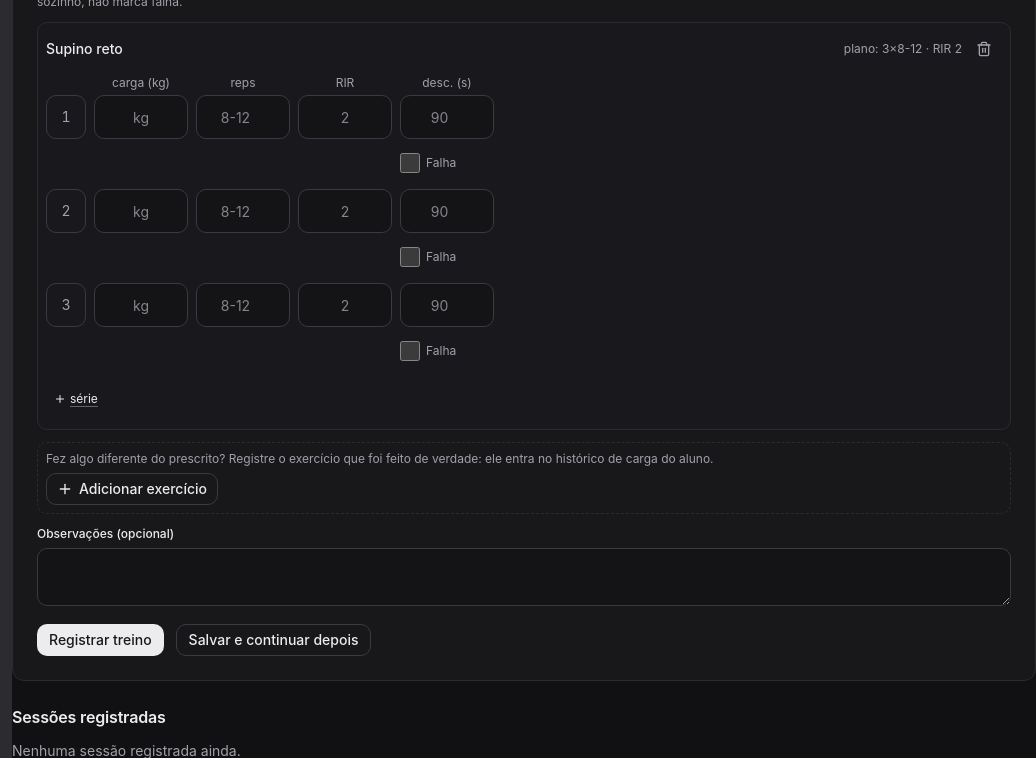
it: Execucao — descanso realizado › registra o descanso real do prescrito e do avulso, incluindo zero
(page scrolled)
Click the button "Adicionar exercício" at (132, 489), box [46,473,218,505]
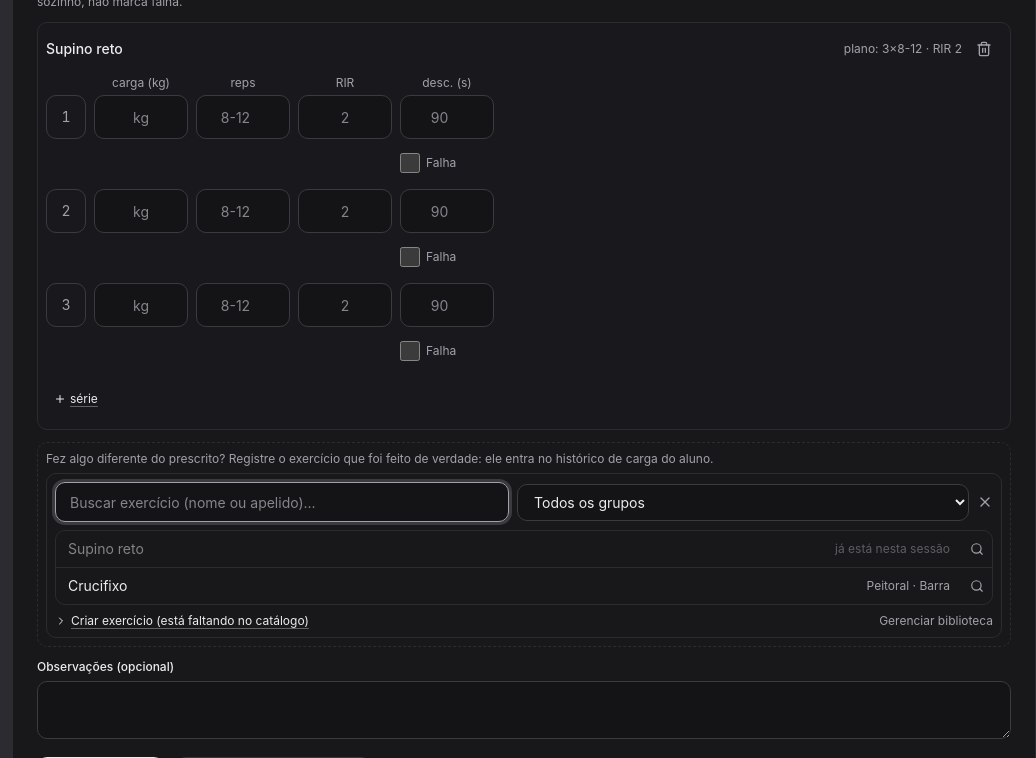
Click the button "Crucifixo Peitoral · Barra" at (98, 586), box [56,568,962,604]
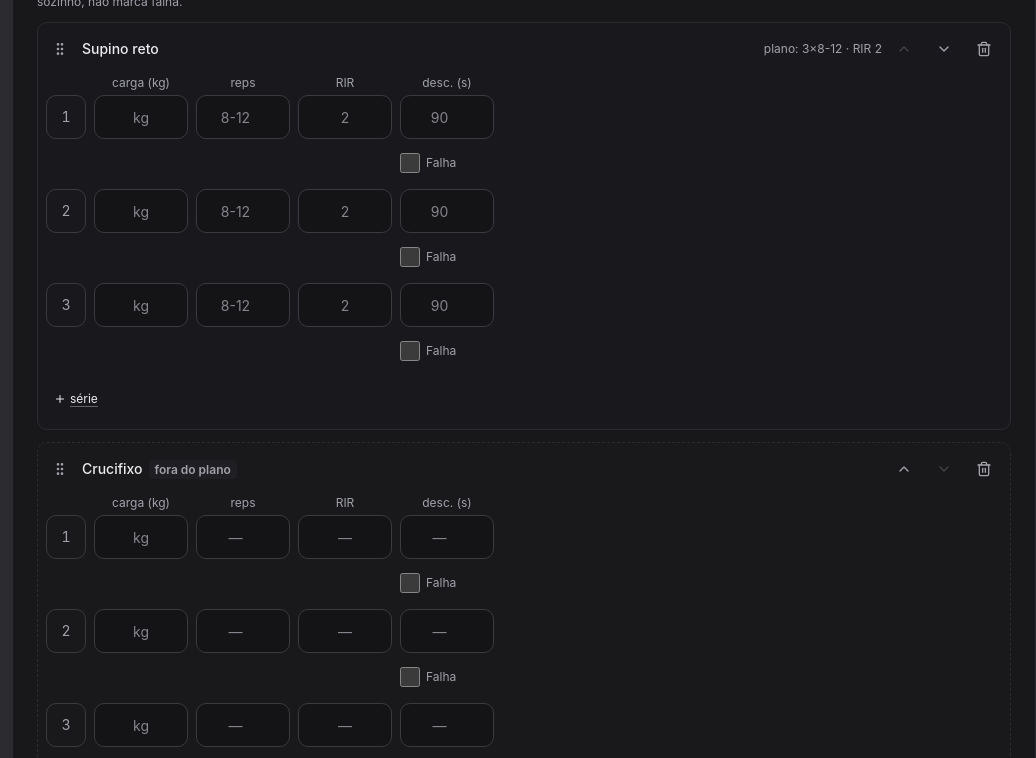
Type "10" into the number field named "Repetições da série 1 de Supino reto" at (243, 117), box [196,95,290,139]
Type "75" into the number field named "Descanso da série 1 de Supino reto" at (447, 117), box [400,95,494,139]
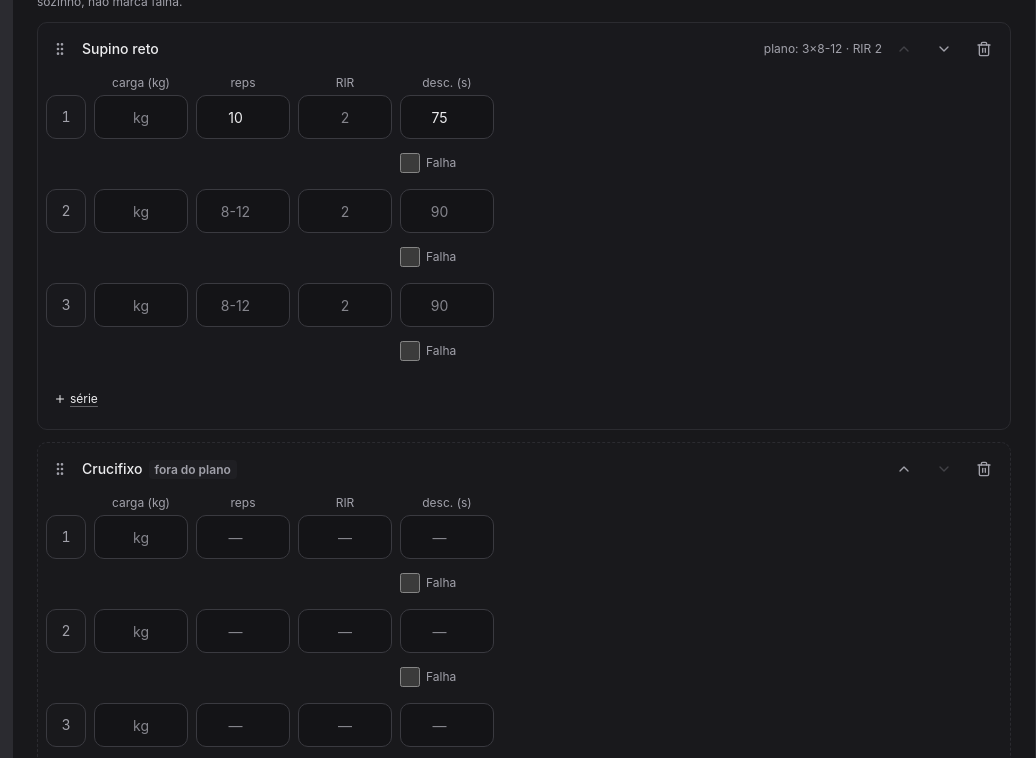
Type "12" into the number field named "Repetições da série 1 de Crucifixo" at (243, 537), box [196,515,290,559]
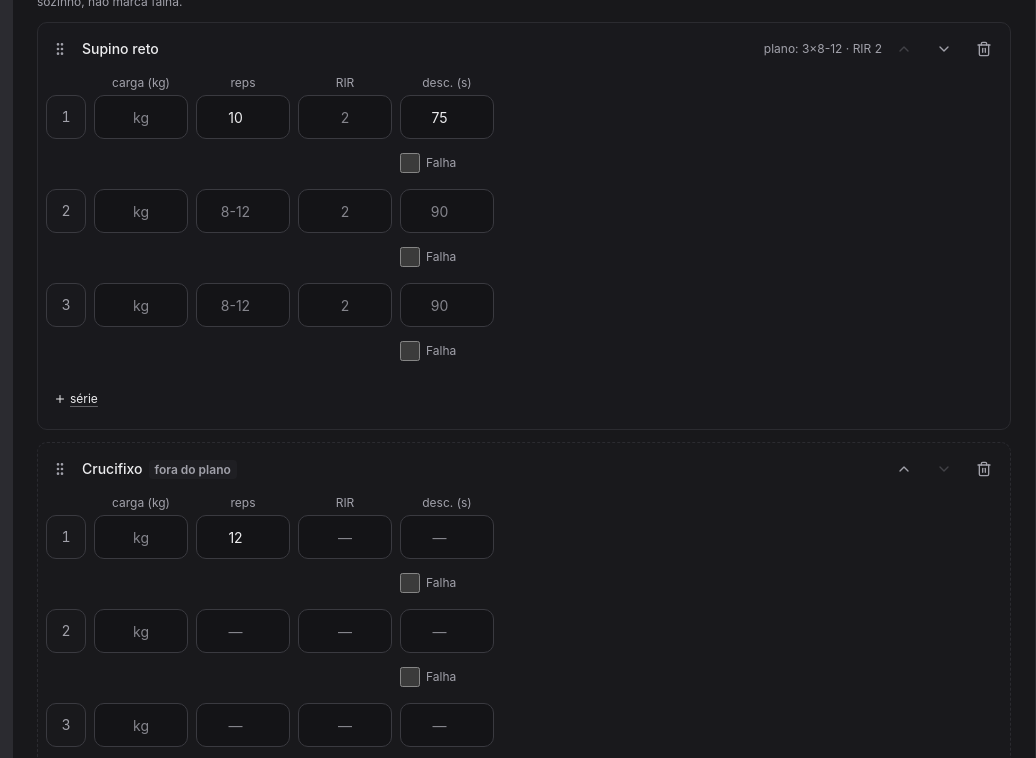
Type "0" into the number field named "Descanso da série 1 de Crucifixo" at (447, 537), box [400,515,494,559]
(page scrolled)
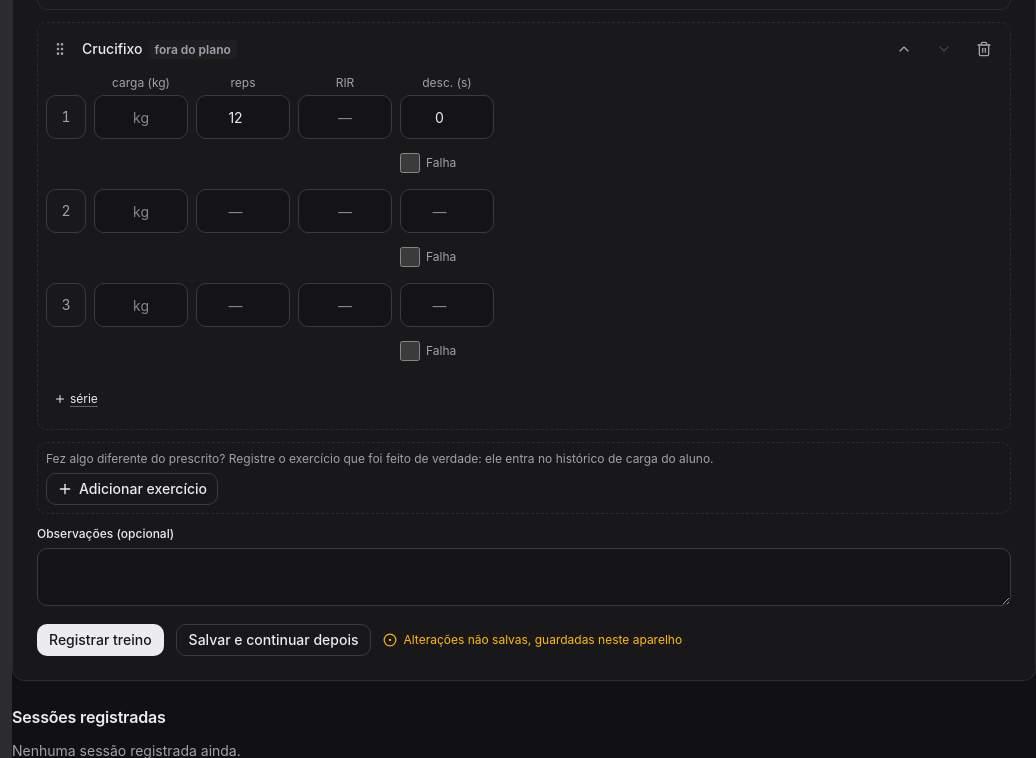
Click the button "Registrar treino" at (100, 640), box [37,624,164,656]
(page scrolled)
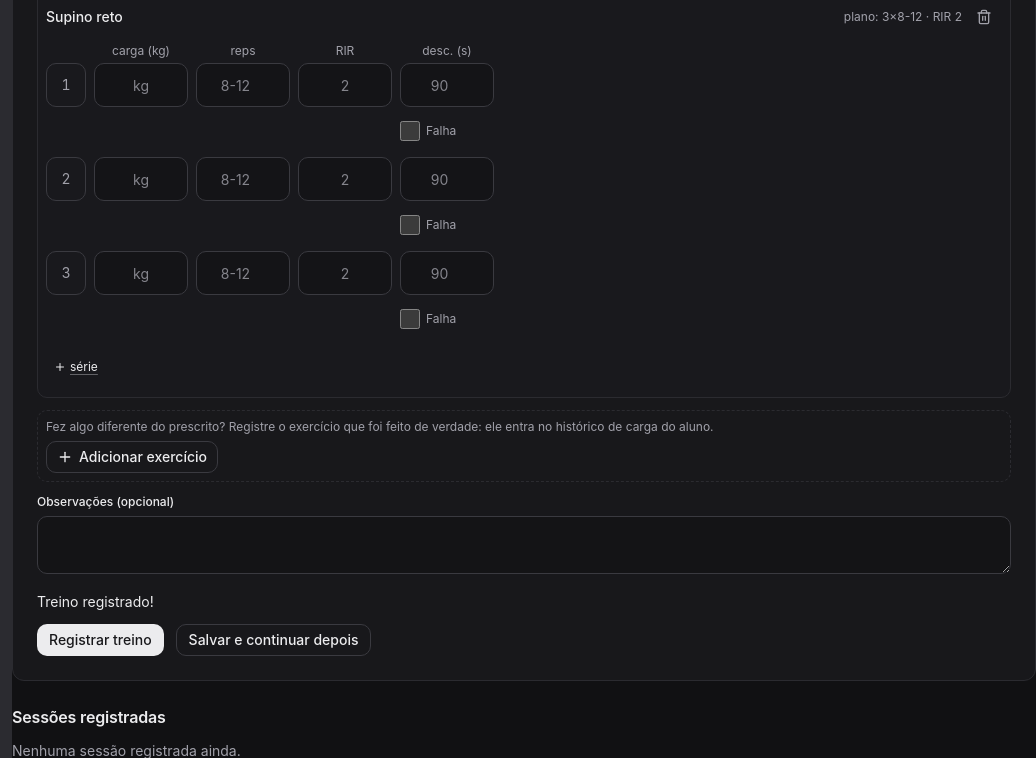
Expected: the text "Treino registrado!" is shown, [37,593,154,610]
Expected: the number field named "Descanso da série 1 de Supino reto" is empty, [400,63,494,107]
